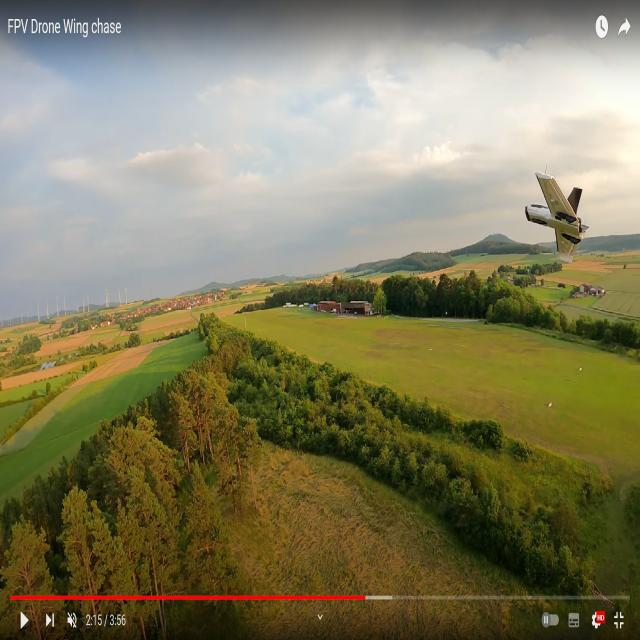iha: (522, 202, 583, 226)
